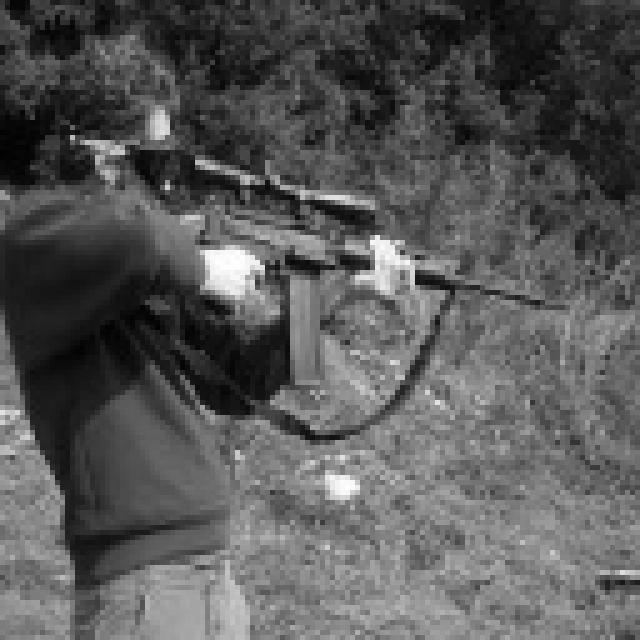Rifle: (0, 100, 580, 415)
